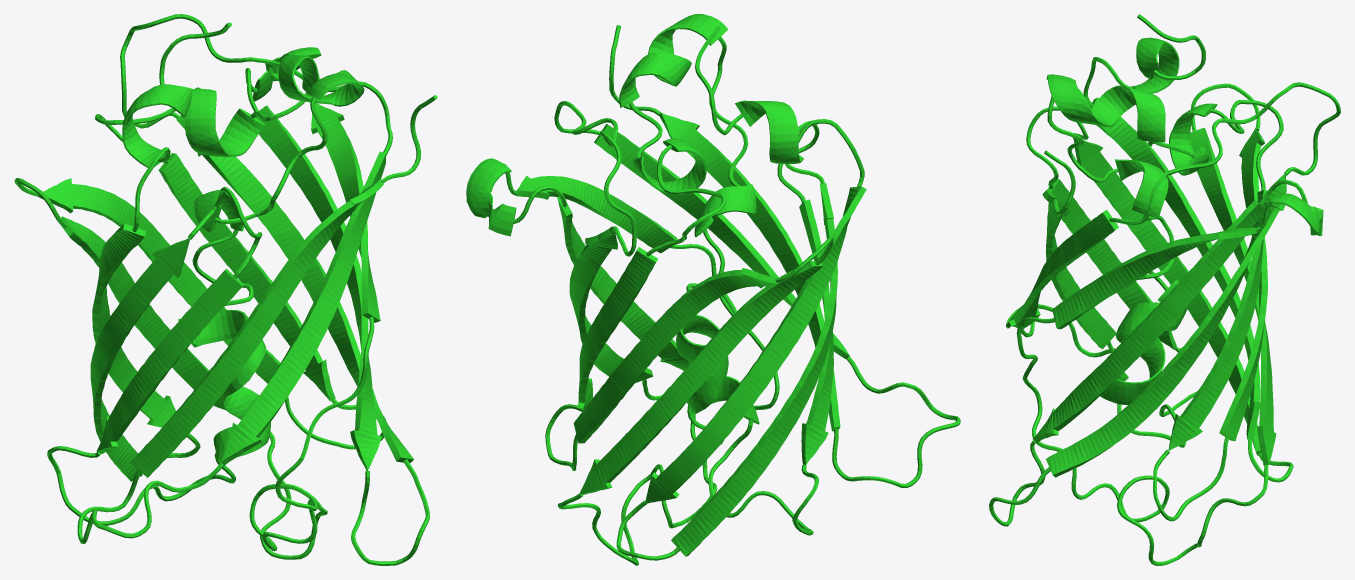
File: gfp.glb
3 views of the same model, side by side, from view 1: azimuth 30°, elevation 25°; view 2: azimuth 150°, elevation 25°; view 3: azimuth 270°, elevation 25° (orthographic). The views are drawn at different scales.
Parts seen in each view (by area): view 1: GFP; view 2: GFP; view 3: GFP.
Part boxes in pixels (box(x1,y1,x2,y2)): GFP: box(14, 14, 437, 565); GFP: box(466, 14, 960, 565); GFP: box(989, 14, 1340, 565).
Size of the model in its own units: 3.51 by 5.22 by 3.21.
